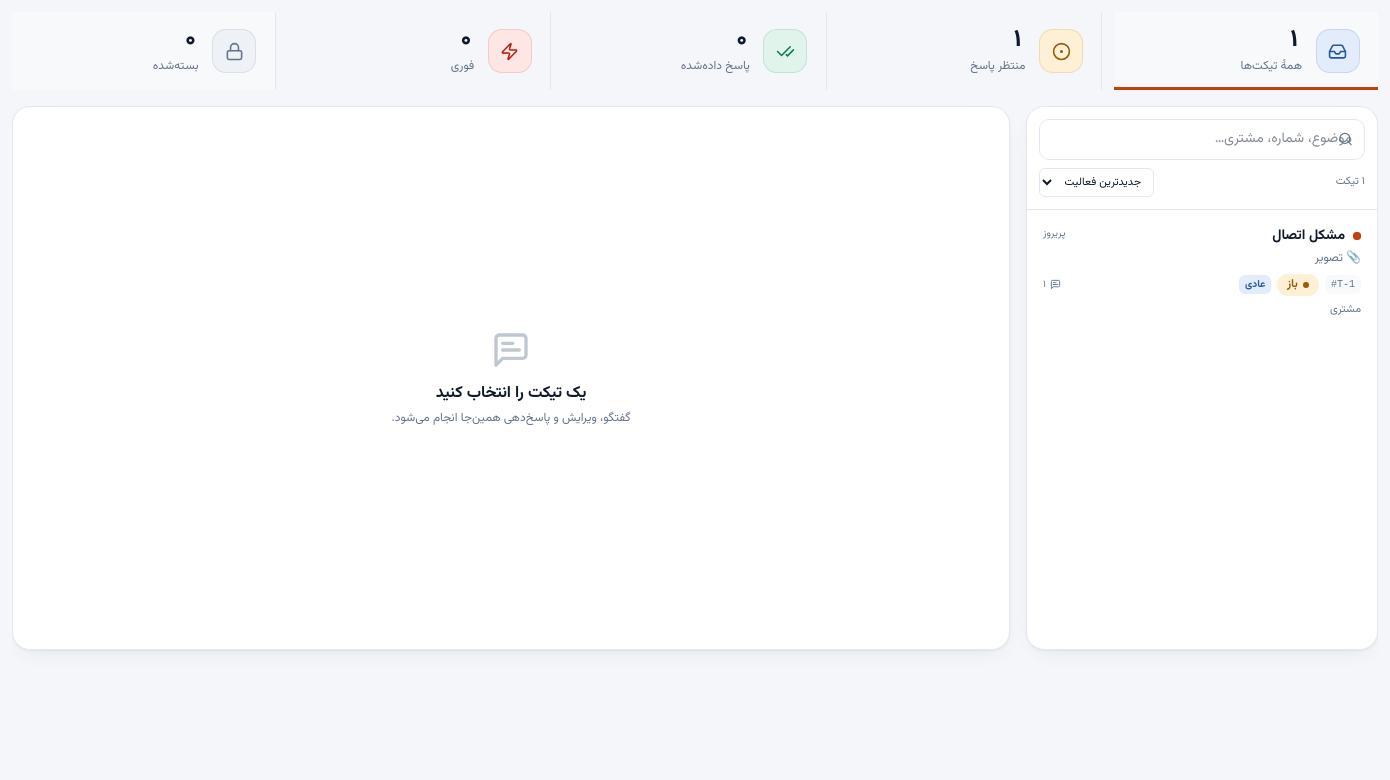
ticket pictures in the admin desk › shows the customer's picture (a picture-only message has no empty text bubble)
Step 1. Click the text "مشکل اتصال" → (1309, 236), box [1272,226,1345,246]
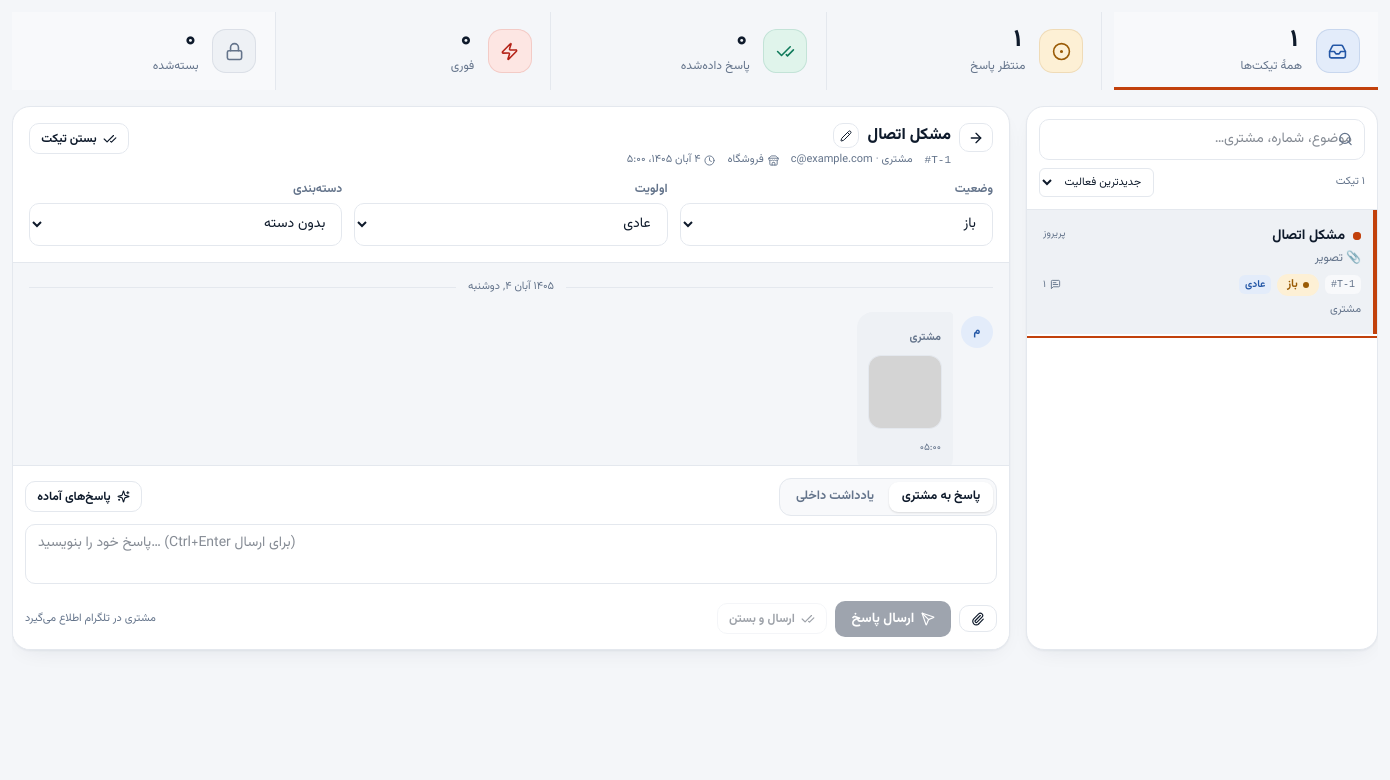
Now the text "یک تیکت را انتخاب کنید" is gone
